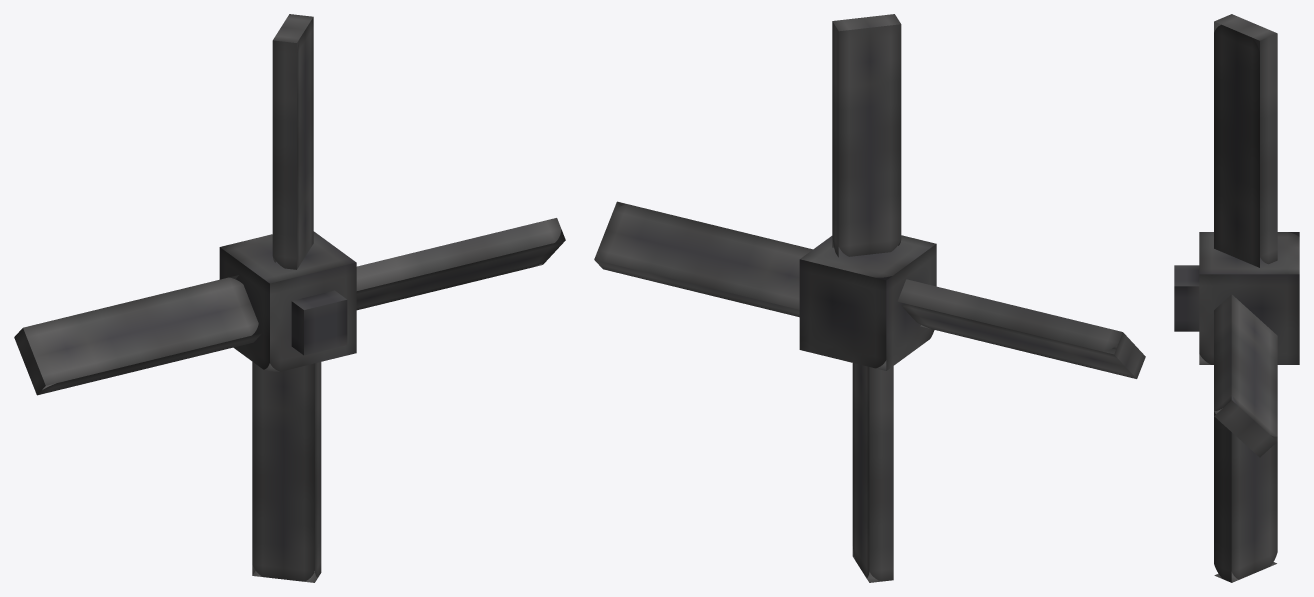
Rendered from diesel_generator_fan.obj.
3 views of the same model, side by side, from view 1: azimuth 30°, elevation 25°; view 2: azimuth 150°, elevation 25°; view 3: azimuth 270°, elevation 25° (orthographic).
Visible parts, largest first — view 1: fan; view 2: fan; view 3: fan.
Part boxes in pixels (x1=…): fan: x1=14, y1=14, x2=565, y2=582; fan: x1=594, y1=14, x2=1145, y2=582; fan: x1=1174, y1=14, x2=1299, y2=582.
Size of the model in its own units: 1.51 by 1.51 by 0.315.
